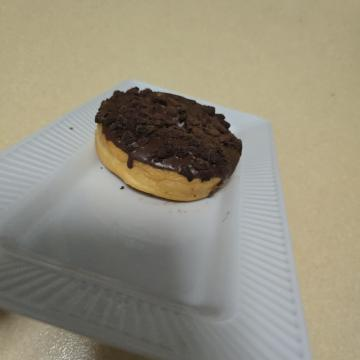doughnut: (70, 107, 214, 284)
